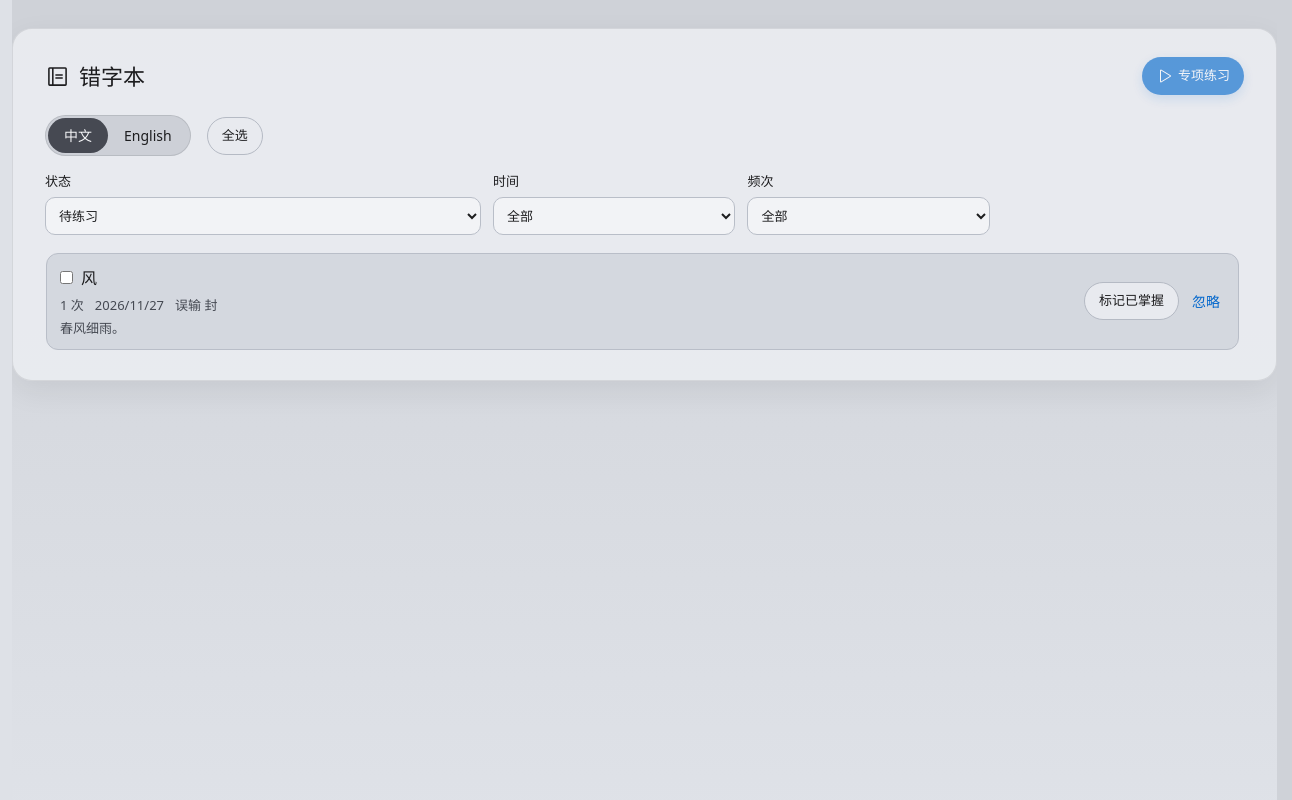
Test: personal progress views › starts drills from selected recorded mistakes
Expected: the button "专项练习" is disabled, [1142,57,1244,95]
Click the checkbox labelled "风".
click(66, 278)  # box [60,271,73,284]
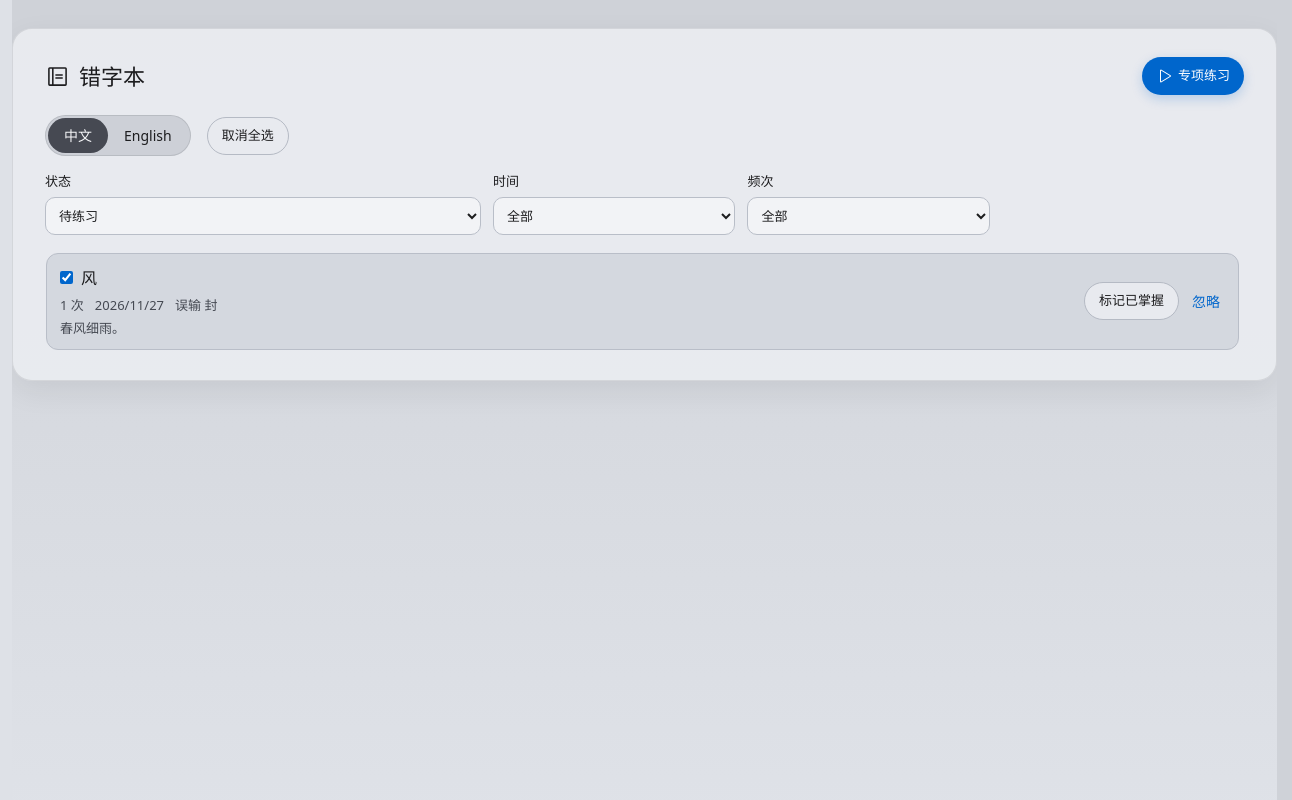
Click the button "专项练习".
click(1193, 76)  # box [1142,57,1244,95]
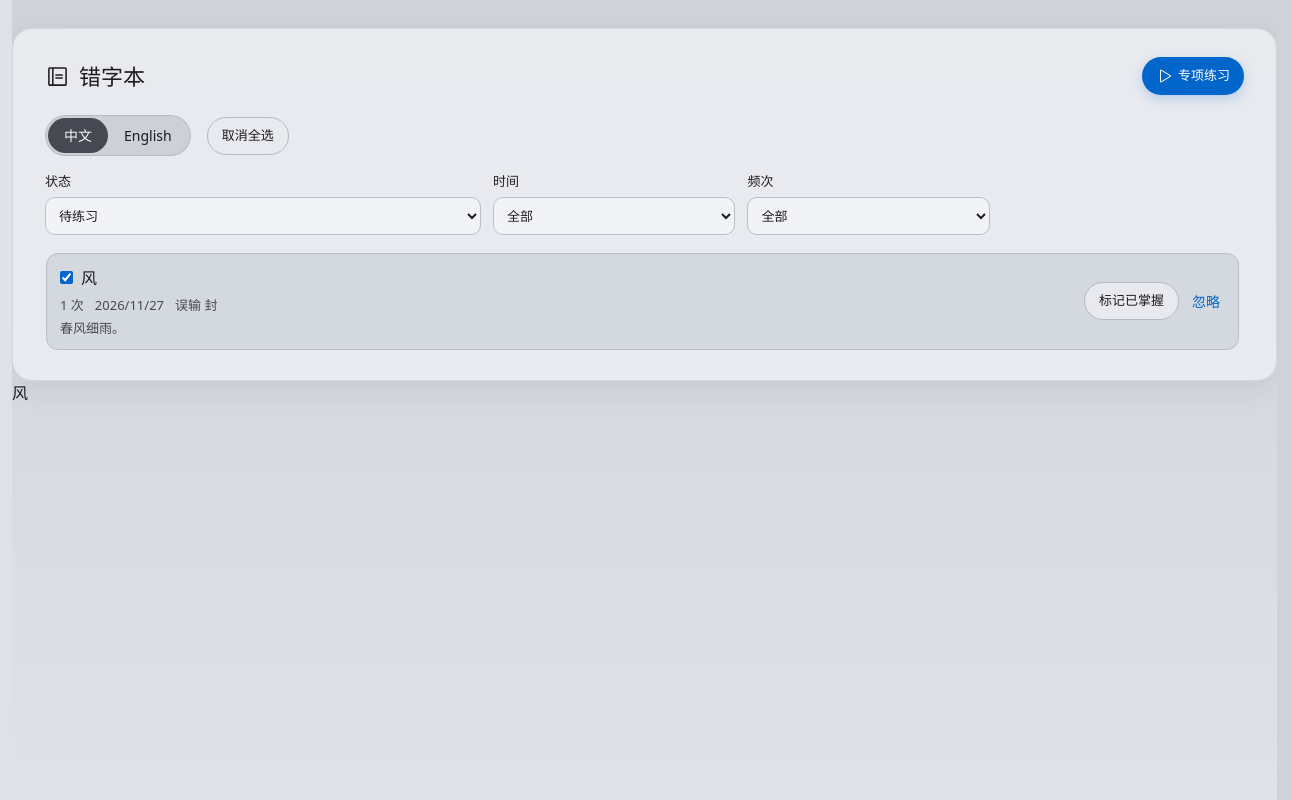
Now the 2nd text "风" is shown, box [12,382,28,404]
